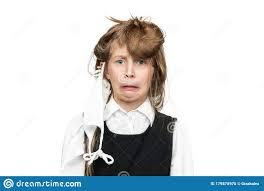Wore Mask Incorrectly: (81, 29, 179, 166)
